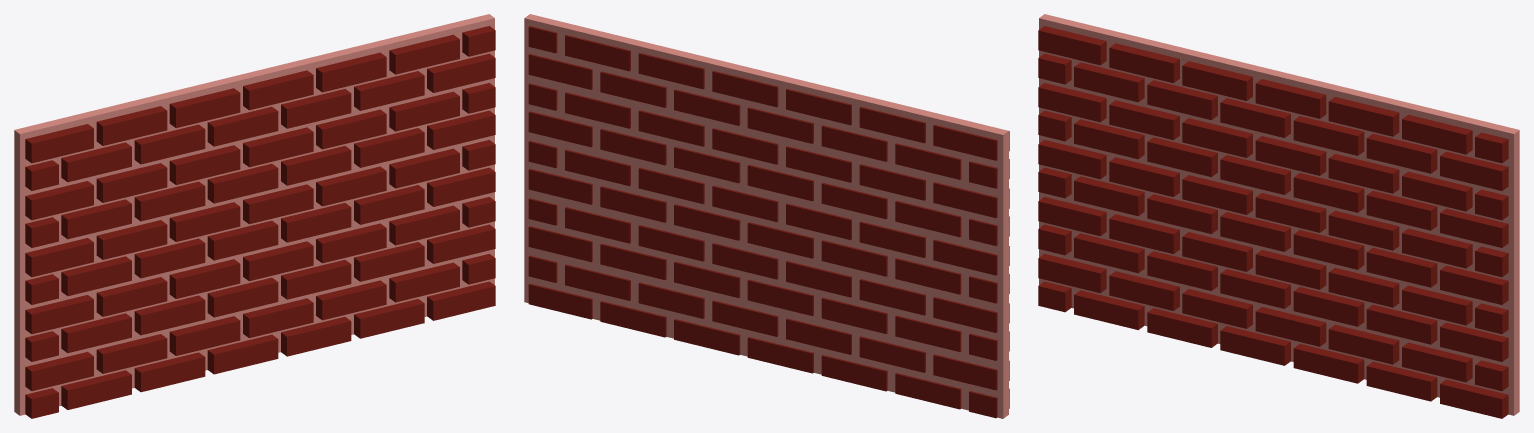
The model's file is bricks.gltf.
3 renders of one model, left to right at view 1: azimuth 30°, elevation 25°; view 2: azimuth 150°, elevation 25°; view 3: azimuth 330°, elevation 25°, orthographic.
Parts seen in each view (by area): view 1: Cube.001, Plane; view 2: Cube.001, Plane; view 3: Cube.001, Plane.
Part boxes in pixels (x1,y1,x2,y2): Cube.001: (25, 26, 495, 418); Plane: (14, 14, 494, 415); Cube.001: (528, 26, 1009, 418); Plane: (524, 14, 1008, 418); Cube.001: (1038, 26, 1508, 418); Plane: (1039, 14, 1519, 415).
Size of the model in its own units: 16.9 by 9.58 by 0.8192.
Materials: 1 (1 with a texture image).
